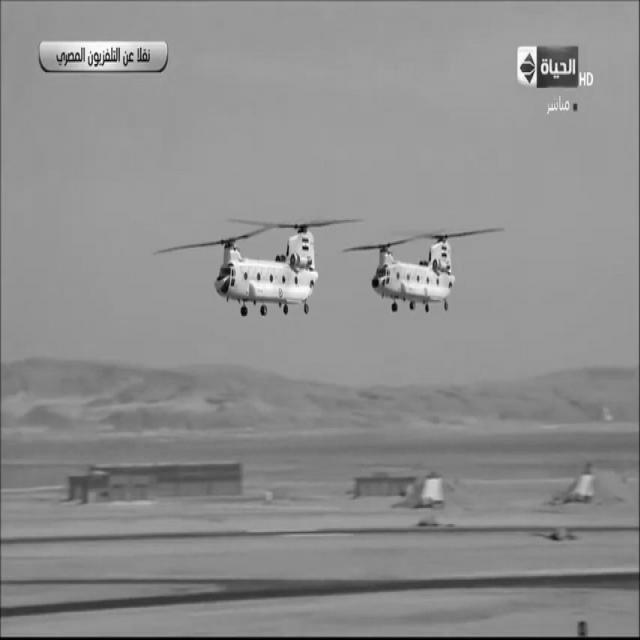helikopter: (179, 208, 333, 334), (354, 208, 474, 335)
